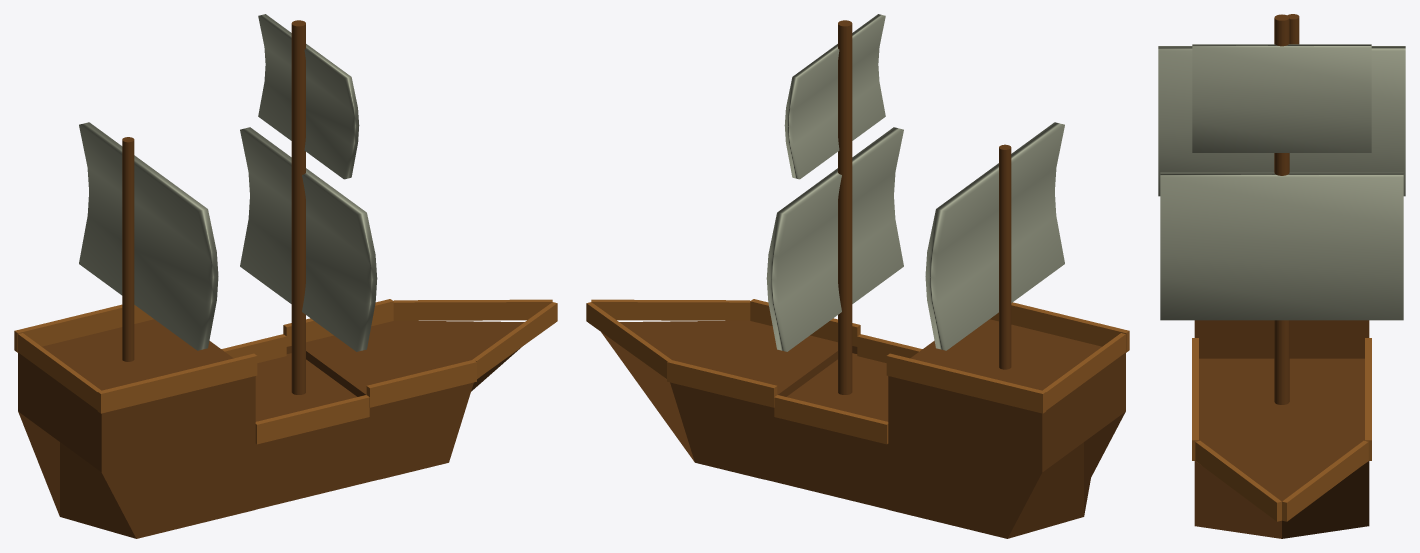
The model's file is ship.fbx.
3 views of the same model, side by side, from view 1: azimuth 30°, elevation 25°; view 2: azimuth 150°, elevation 25°; view 3: azimuth 270°, elevation 25° (orthographic). The views are drawn at different scales.
Visible parts, largest first — view 1: Cube, Cube.002, Cube.001, Cube.003, Cylinder, Cylinder.001; view 2: Cube, Cube.002, Cube.001, Cube.003, Cylinder, Cylinder.001; view 3: Cube.002, Cube, Cube.003, Cylinder, Cube.001, Cylinder.001.
Boxes of the visible parts, x1=… form: Cube: x1=18, y1=319, x2=524, y2=538; Cube.002: x1=79, y1=14, x2=377, y2=351; Cube.001: x1=14, y1=299, x2=476, y2=444; Cube.003: x1=18, y1=299, x2=557, y2=410; Cylinder: x1=291, y1=20, x2=305, y2=394; Cylinder.001: x1=122, y1=137, x2=134, y2=361; Cube: x1=601, y1=319, x2=1125, y2=538; Cube.002: x1=766, y1=14, x2=1064, y2=351; Cube.001: x1=667, y1=299, x2=1129, y2=444; Cube.003: x1=586, y1=299, x2=1125, y2=410; Cylinder: x1=838, y1=20, x2=852, y2=394; Cylinder.001: x1=999, y1=144, x2=1011, y2=369; Cube.002: x1=1158, y1=44, x2=1405, y2=320; Cube: x1=1194, y1=320, x2=1369, y2=538; Cube.003: x1=1195, y1=440, x2=1368, y2=521; Cylinder: x1=1274, y1=14, x2=1289, y2=404; Cube.001: x1=1192, y1=338, x2=1371, y2=460; Cylinder.001: x1=1287, y1=14, x2=1299, y2=44.
Size of the model in its own units: 1390 by 1162 by 575.
